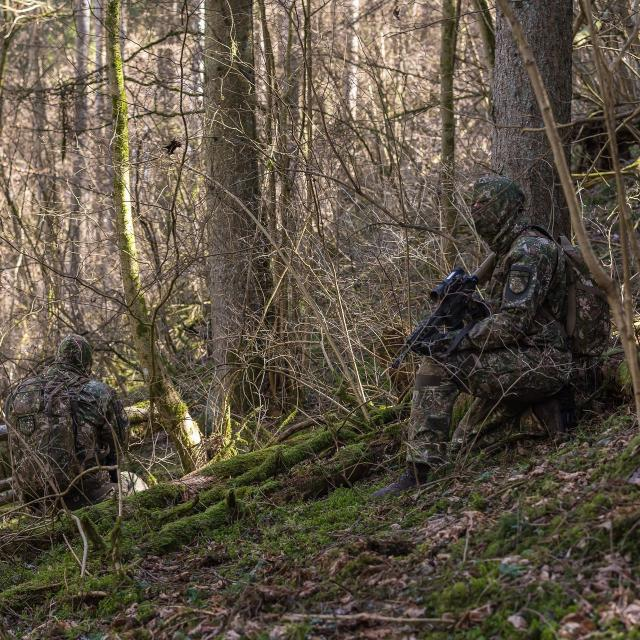Human: (368, 177, 609, 499), (9, 333, 130, 515)
